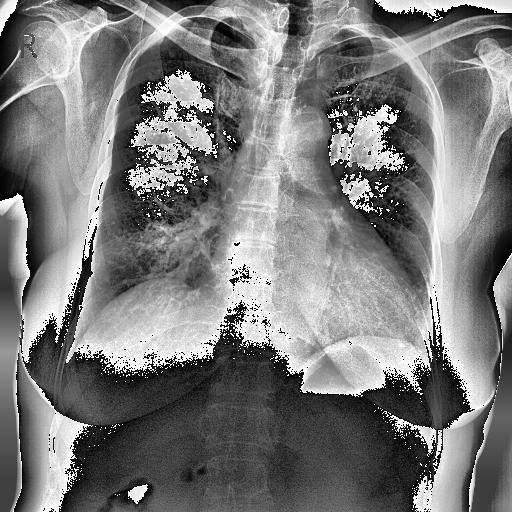0- Aortic enlargement: (286, 106, 333, 171), (276, 106, 328, 160), (286, 106, 334, 156)
3- Cardiomegaly: (204, 252, 429, 357), (210, 229, 420, 336), (206, 250, 421, 308)
